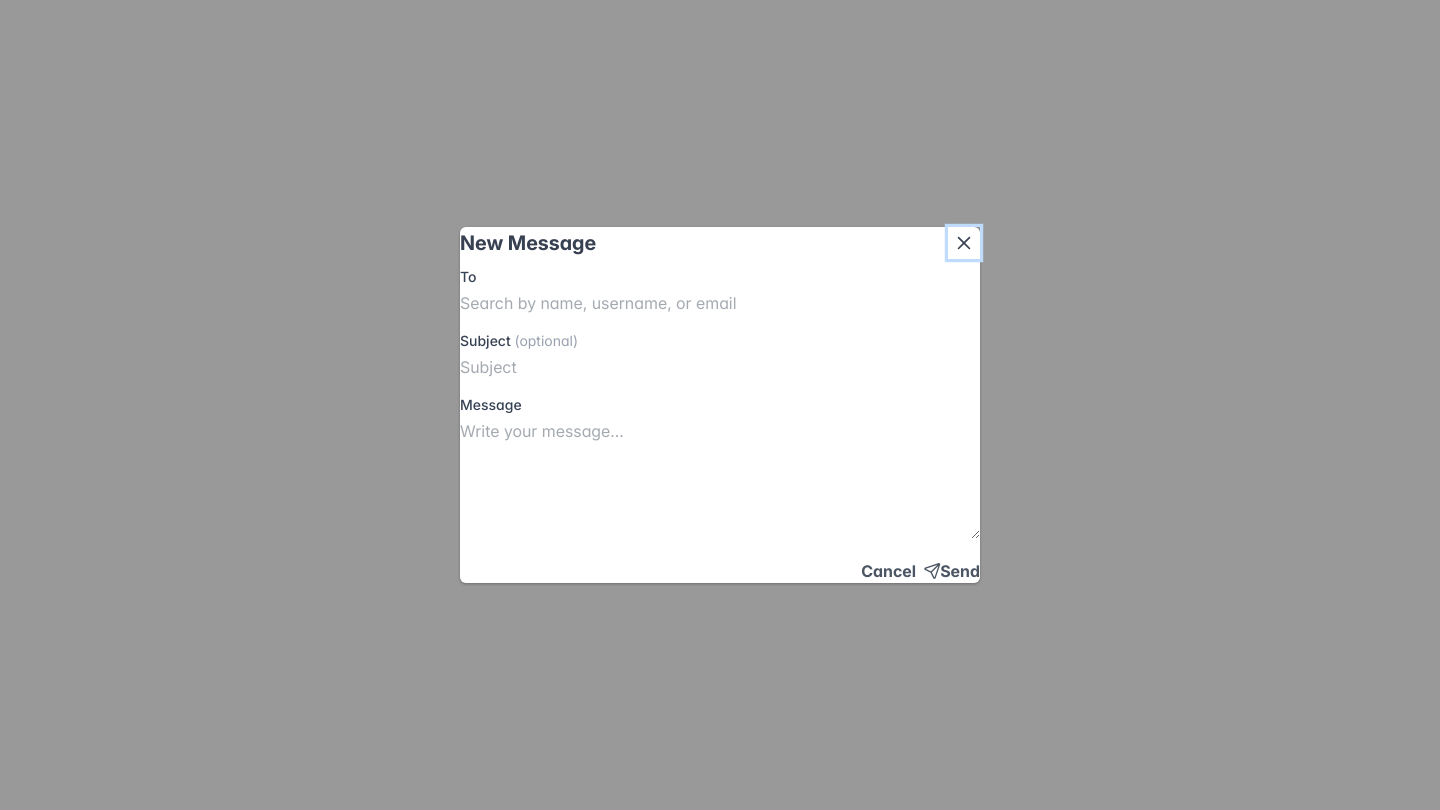
Scenario: ComposeModal › shows autocomplete suggestions when user types
Type "bob" into the dropdown with placeholder "Search by name, username, or email" at (720, 303), box x1=460 y1=291 x2=980 y2=315
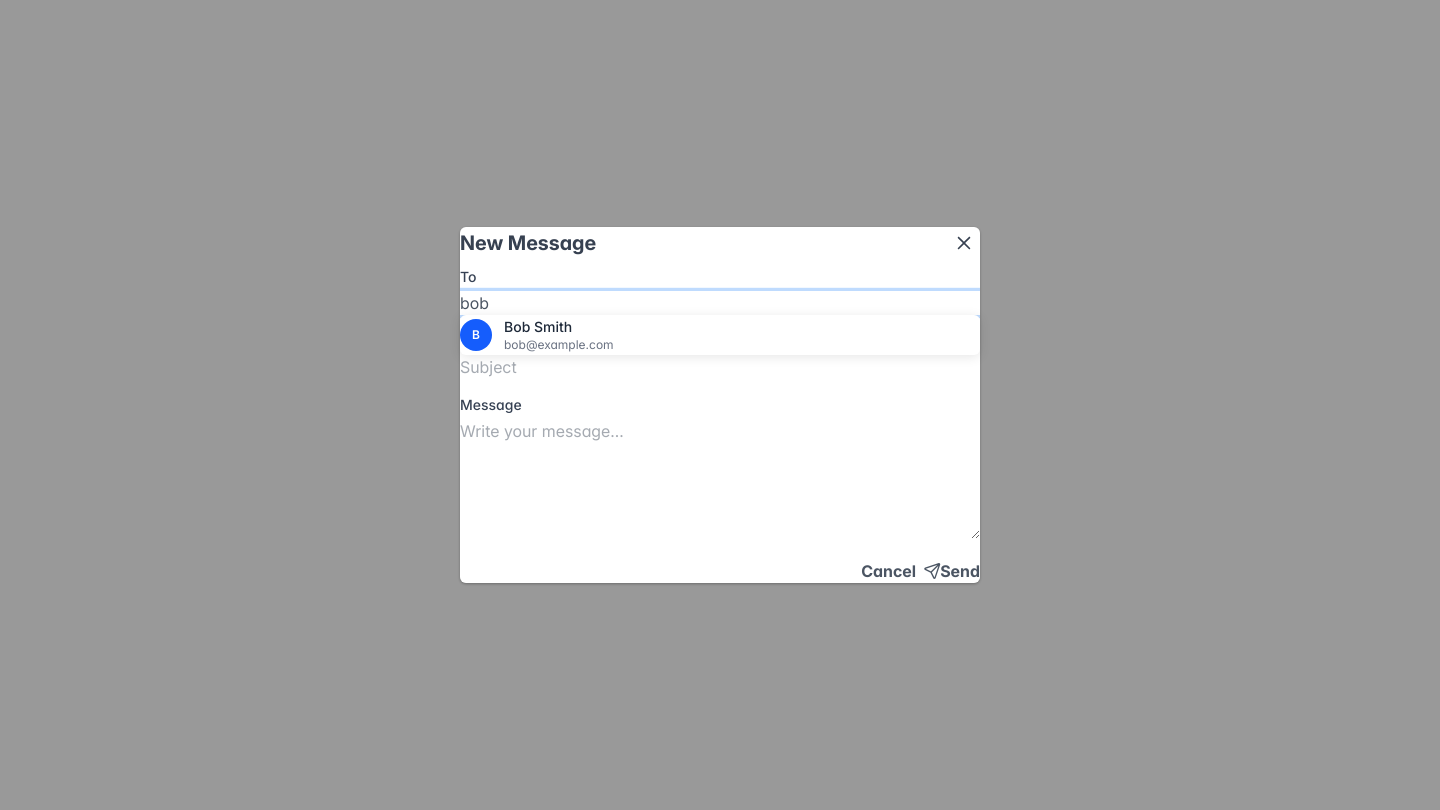
Now the text "Bob Smith" is shown, box x1=504 y1=318 x2=572 y2=335
Now the text "bob@example.com" is shown, box x1=504 y1=337 x2=614 y2=353
